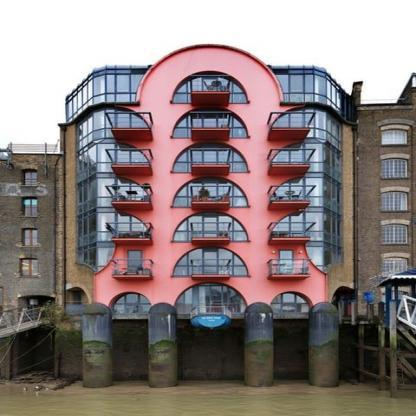Balcony: (103, 111, 154, 138), (103, 149, 154, 175), (103, 185, 154, 211), (190, 112, 231, 141), (191, 75, 231, 102), (190, 149, 230, 176), (104, 222, 153, 244), (190, 222, 231, 244), (267, 221, 317, 238), (190, 259, 232, 279), (267, 112, 316, 129), (110, 259, 153, 278), (267, 259, 312, 277), (266, 185, 316, 201), (267, 149, 316, 165), (189, 306, 232, 319)
Building Outline: (55, 43, 354, 320)
Door: (198, 286, 222, 312), (279, 250, 293, 276), (128, 250, 142, 276), (203, 79, 217, 103), (203, 113, 217, 137), (203, 148, 217, 172), (203, 217, 217, 241), (203, 183, 217, 206), (203, 252, 217, 275)
Facade: (56, 43, 354, 322)
Floor Slab: (97, 314, 323, 319), (97, 173, 323, 178), (97, 208, 323, 213), (97, 242, 323, 247), (98, 138, 322, 143), (98, 103, 322, 108), (97, 278, 323, 282)
Glass Wall: (68, 75, 144, 123), (271, 107, 341, 151), (76, 109, 149, 151), (77, 144, 149, 183), (270, 143, 340, 182), (77, 178, 150, 215), (276, 75, 341, 116), (270, 177, 340, 214), (270, 211, 341, 247), (77, 213, 152, 247), (306, 247, 341, 272), (77, 248, 114, 271)
Window: (173, 283, 247, 312), (173, 212, 247, 241), (173, 74, 247, 102), (173, 178, 247, 206), (173, 144, 247, 172), (173, 109, 247, 137), (173, 247, 247, 275), (269, 293, 311, 313), (110, 294, 153, 313)
